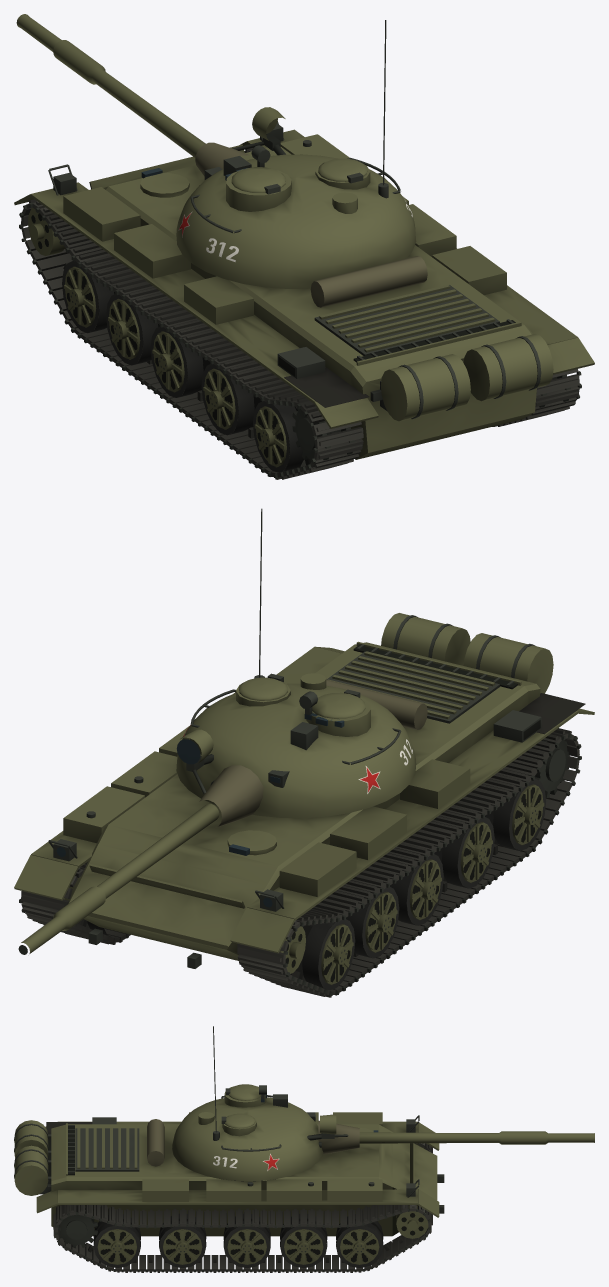
Rendered from t62alt.glb.
The picture shows the model from 3 angles, top to bottom: view 1: azimuth 30°, elevation 25°; view 2: azimuth 150°, elevation 25°; view 3: azimuth 270°, elevation 25°; orthographic projection. The views are drawn at different scales.
Visible parts, largest first — view 1: Hull_T62A_Paint, TurretYaw_T62A_Paint, LeftTrack_Motion_T62A_TrackSteel, LeftTrack_Motion_T62A_Paint, Hull_T62A_DarkSteel, LeftTrack_Motion_T62A_Rubber, BarrelRecoil_T62A_Paint, Hull_T62A_Canvas, LeftTrack_Motion_T62A_DarkSteel, LeftTrack_Motion_T62A_Cavity, TurretYaw_T62A_DarkSteel, Hull_T62A_Soot (+4 smaller); view 2: Hull_T62A_Paint, TurretYaw_T62A_Paint, LeftTrack_Motion_T62A_TrackSteel, LeftTrack_Motion_T62A_Rubber, LeftTrack_Motion_T62A_Paint, Hull_T62A_DarkSteel, BarrelRecoil_T62A_Paint, LeftTrack_Motion_T62A_DarkSteel, GunPitch_T62A_Canvas, TurretYaw_T62A_DarkSteel, LeftTrack_Motion_T62A_Cavity, RightTrack_Motion_T62A_TrackSteel (+3 smaller); view 3: Hull_T62A_Paint, TurretYaw_T62A_Paint, RightTrack_Motion_T62A_TrackSteel, RightTrack_Motion_T62A_Paint, RightTrack_Motion_T62A_Rubber, Hull_T62A_DarkSteel, BarrelRecoil_T62A_Paint, RightTrack_Motion_T62A_DarkSteel, RightTrack_Motion_T62A_Cavity, TurretYaw_T62A_DarkSteel, GunPitch_T62A_Canvas, Hull_T62A_Canvas.
Boxes of the visible parts, x1,y1,x2,y2 form: Hull_T62A_Paint: (14,129,594,459); TurretYaw_T62A_Paint: (176,154,416,288); LeftTrack_Motion_T62A_TrackSteel: (21,199,363,479); LeftTrack_Motion_T62A_Paint: (28,207,286,467); Hull_T62A_DarkSteel: (48,121,541,419); LeftTrack_Motion_T62A_Rubber: (62,260,308,472); BarrelRecoil_T62A_Paint: (16,14,205,157); Hull_T62A_Canvas: (310,256,427,307); LeftTrack_Motion_T62A_DarkSteel: (19,203,354,478); LeftTrack_Motion_T62A_Cavity: (31,213,283,464); TurretYaw_T62A_DarkSteel: (190,20,400,233); Hull_T62A_Soot: (284,367,369,407); Hull_T62A_Paint: (14,613,594,960); TurretYaw_T62A_Paint: (176,673,416,818); LeftTrack_Motion_T62A_TrackSteel: (237,728,579,997); LeftTrack_Motion_T62A_Rubber: (290,778,545,989); LeftTrack_Motion_T62A_Paint: (279,784,544,984); Hull_T62A_DarkSteel: (48,615,541,968); BarrelRecoil_T62A_Paint: (21,804,219,953); LeftTrack_Motion_T62A_DarkSteel: (283,733,581,995); GunPitch_T62A_Canvas: (199,765,263,827); TurretYaw_T62A_DarkSteel: (190,508,401,787); LeftTrack_Motion_T62A_Cavity: (285,787,541,982); RightTrack_Motion_T62A_TrackSteel: (21,862,130,944); Hull_T62A_Paint: (14,1112,439,1236); TurretYaw_T62A_Paint: (172,1084,323,1181); RightTrack_Motion_T62A_TrackSteel: (53,1205,432,1272); RightTrack_Motion_T62A_Paint: (97,1205,428,1264); RightTrack_Motion_T62A_Rubber: (93,1213,383,1268); Hull_T62A_DarkSteel: (14,1115,444,1213); BarrelRecoil_T62A_Paint: (359,1131,594,1144); RightTrack_Motion_T62A_DarkSteel: (54,1205,431,1272); RightTrack_Motion_T62A_Cavity: (100,1213,423,1262); TurretYaw_T62A_DarkSteel: (213,1026,321,1151); GunPitch_T62A_Canvas: (318,1120,359,1153); Hull_T62A_Canvas: (147,1119,164,1166).
Bounding box in the file's own units: 3.39 × 4.28 × 9.98.
9 materials, 1 textured.
